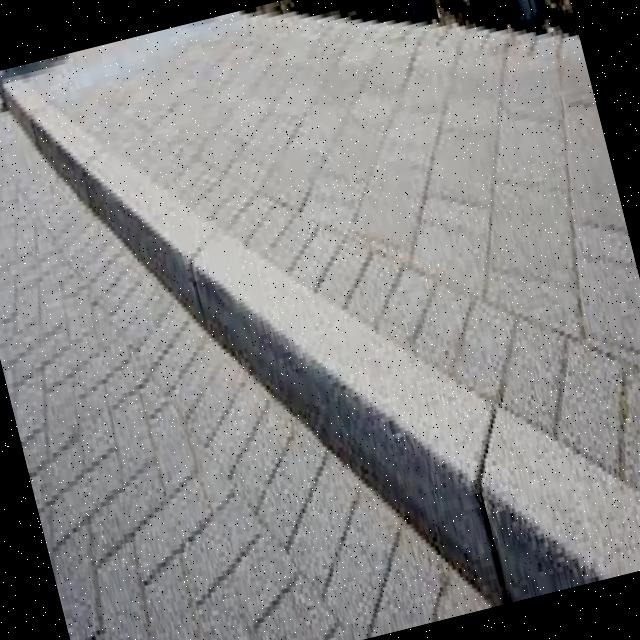curb: (191, 226, 508, 604), (83, 145, 210, 318)
